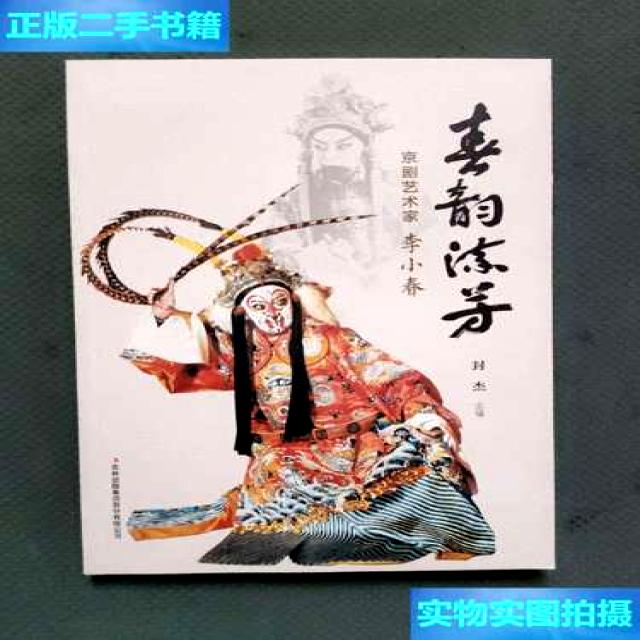Reeves-s Pheasant: (80, 186, 372, 305)
